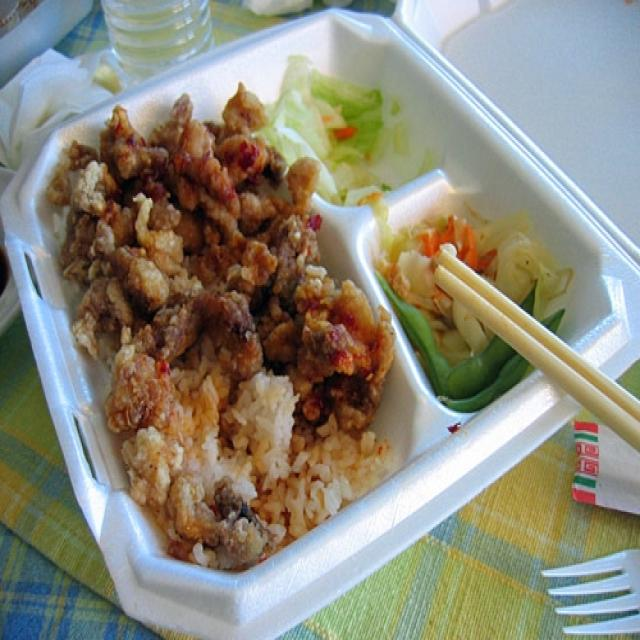鸡肉料理 含炸鸡: (27, 45, 601, 604)
